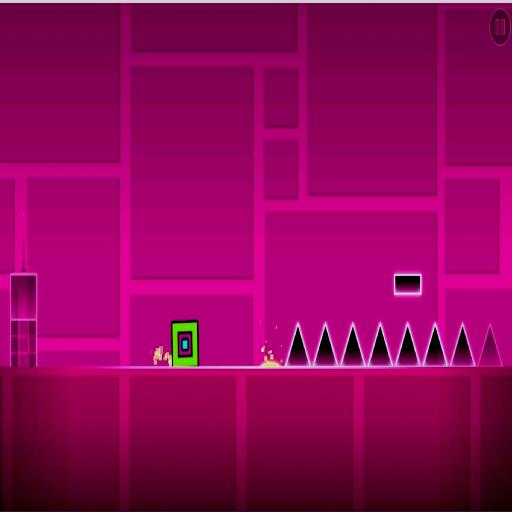block: (8, 272, 40, 370), (394, 272, 426, 296)
player: (172, 321, 198, 365)
spike: (423, 322, 448, 366), (368, 323, 392, 366), (478, 324, 502, 366), (342, 323, 365, 366), (286, 324, 310, 365), (313, 324, 337, 365), (396, 324, 419, 365), (451, 324, 473, 365)
